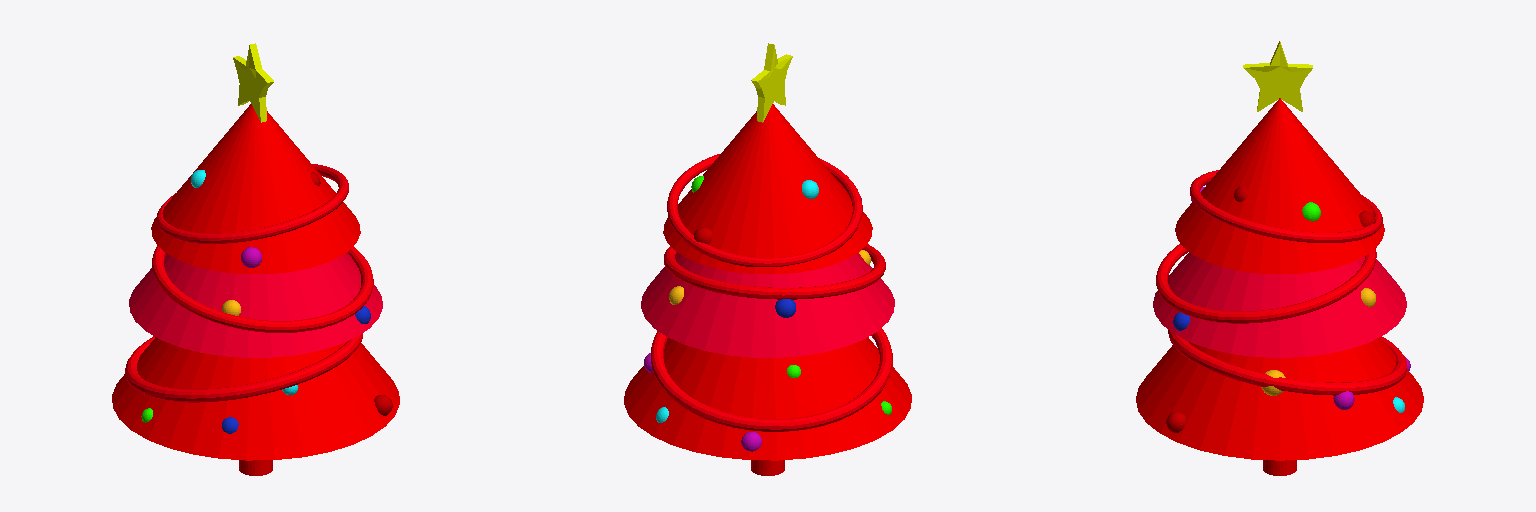
Rendered from christmasTree.obj.
3 views of the same model, side by side, from view 1: azimuth 30°, elevation 25°; view 2: azimuth 150°, elevation 25°; view 3: azimuth 270°, elevation 25° (orthographic).
Parts seen in each view (by area): view 1: Tree2_Sphere.008; view 2: Tree2_Sphere.008; view 3: Tree2_Sphere.008.
Boxes of the visible parts, <box> form: Tree2_Sphere.008: <box>112,43,399,475</box>; Tree2_Sphere.008: <box>624,43,911,475</box>; Tree2_Sphere.008: <box>1136,41,1423,475</box>.
Bounding box in the file's own units: 1 × 1.63 × 1.